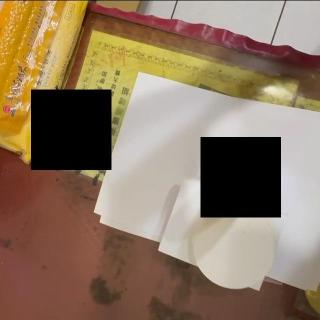carrot: (214, 146, 270, 210)
